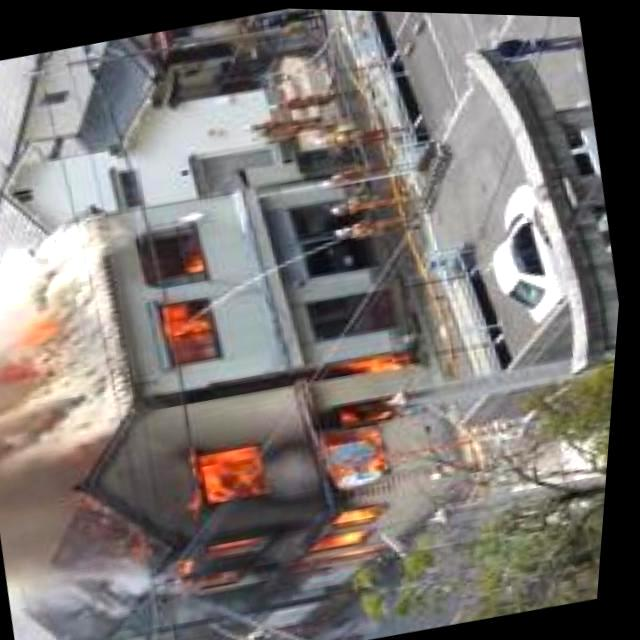fire: (124, 324, 492, 636), (140, 235, 240, 372), (0, 289, 100, 398)
